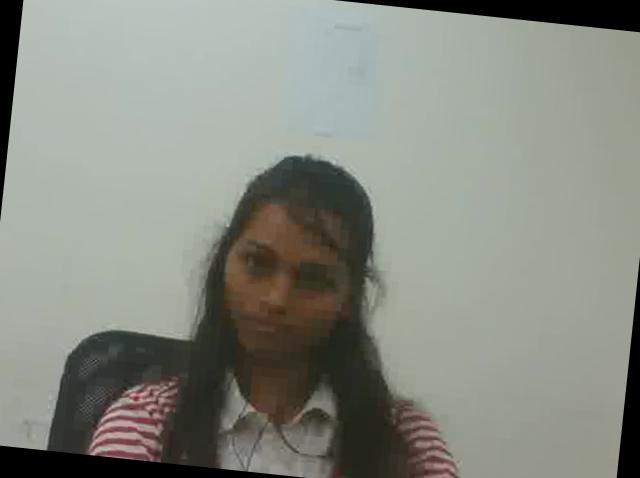bingung: (222, 209, 358, 372)
